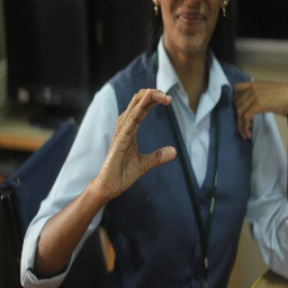C: (103, 80, 192, 171)
